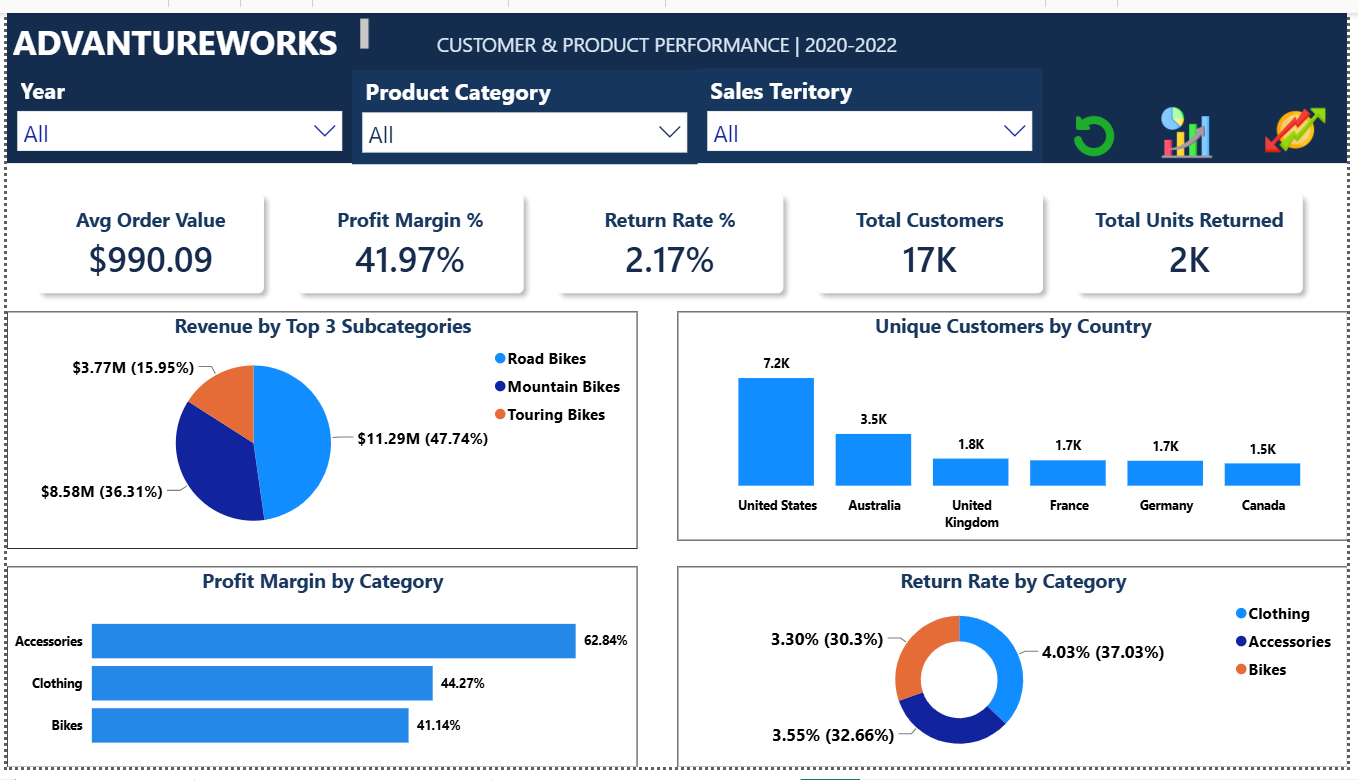

The page's visual inventory and layout, read from the dashboard file:
{"tool":"powerbi","page":{"name":"Customer & Product Analysis","canvas":[1280,720],"ordinal":1},"visuals":[{"type":"cardVisual","fields":{"Data":["_KPIs.Avg Order Value","_KPIs.Profit Margin %","_KPIs.Return Rate %","_KPIs.Total Unique Customers","_KPIs.Total Units Returned"]},"box":[0,143.3,1270,153.3],"z":0},{"type":"clusteredBarChart","title":"Profit Margin by Category","fields":{"Category":["Categories Lookup.CategoryName"],"Y":["_KPIs.Profit Margin %"]},"box":[0,528.3,601.7,191.7],"z":1000},{"type":"donutChart","title":"Return Rate by Category","fields":{"Category":["Categories Lookup.CategoryName"],"Y":["_KPIs.Return Rate %"]},"box":[640,528.3,640,191.7],"z":2000},{"type":"columnChart","title":"Unique Customers by Country","fields":{"Category":["Territory Lookup.Country"],"Y":["_KPIs.Total Unique Customers"]},"box":[640,285,640,218.3],"z":3000},{"type":"pieChart","title":"Revenue by Top 3 Subcategories","fields":{"Category":["Product Subcategories Lookup.SubcategoryName"],"Y":["_KPIs.Total Revenue"]},"box":[0,285,601.7,226.7],"z":4000},{"type":"shape","title":"AdvantureWork","box":[0,0,1280,143.3],"z":5000},{"type":"textbox","box":[405,11.7,520,41.7],"z":6000},{"type":"textbox","box":[0,0,350,45],"z":7000},{"type":"slicer","fields":{"Values":["Calendar Lookup.Date.Variation.Date Hierarchy.Year"]},"box":[0,53.3,330,90],"z":8000},{"type":"slicer","fields":{"Values":["Categories Lookup.CategoryName"]},"box":[329.3,54.1,330,90],"z":9000},{"type":"slicer","fields":{"Values":["Territory Lookup.Region"]},"box":[658.5,52.5,330,90],"z":10000},{"type":"image","box":[1000.5,93.8,76.3,46.1],"z":10001},{"type":"image","box":[1076.8,89.1,98.6,50.9],"z":10002},{"type":"image","box":[1189.8,82.7,79.5,57.3],"z":10003}]}

Visuals, with their boxes in screenshot pixels (x1, y1, x2, y2), scaled from the page's 1280x720 canvas onto the 1358x780 screenshot:
cardVisual - _KPIs.Avg Order Value x _KPIs.Profit Margin %: [0,155,1347,321]
"Profit Margin by Category" clusteredBarChart: [0,572,638,779]
"Return Rate by Category" donutChart: [679,572,1357,779]
"Unique Customers by Country" columnChart: [679,309,1357,545]
"Revenue by Top 3 Subcategories" pieChart: [0,309,638,554]
"AdvantureWork" shape: [0,0,1357,155]
textbox: [430,13,981,58]
textbox: [0,0,371,49]
slicer - Calendar Lookup.Date.Variation.Date Hierarchy.Year: [0,58,350,155]
slicer - Categories Lookup.CategoryName: [349,59,699,156]
slicer - Territory Lookup.Region: [699,57,1049,154]
image: [1061,102,1142,152]
image: [1142,97,1247,152]
image: [1262,90,1347,152]
